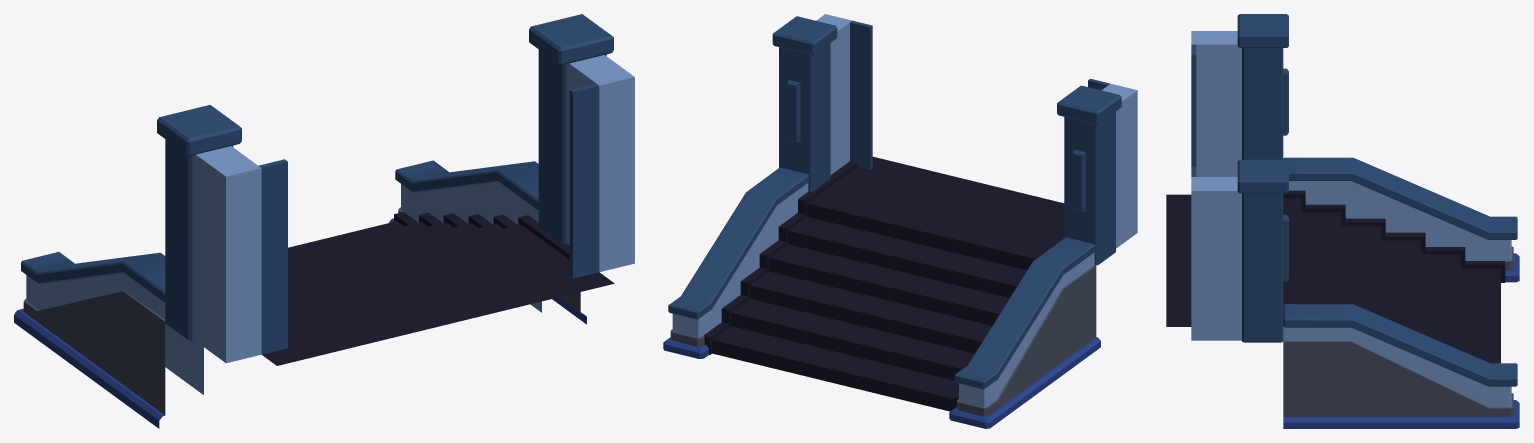
The model's file is Stairs.fbx.
The picture shows the model from 3 angles, left to right: view 1: azimuth 30°, elevation 25°; view 2: azimuth 150°, elevation 25°; view 3: azimuth 270°, elevation 25°; orthographic projection. The views are drawn at different scales.
Visible parts, largest first — view 1: Stairs_03; view 2: Stairs_03; view 3: Stairs_03.
Part boxes in pixels (x1,y1,x2,y2): Stairs_03: (14, 14, 634, 428); Stairs_03: (663, 14, 1137, 428); Stairs_03: (1166, 14, 1519, 428).
Bounding box in the file's own units: 556 × 496 × 385.
